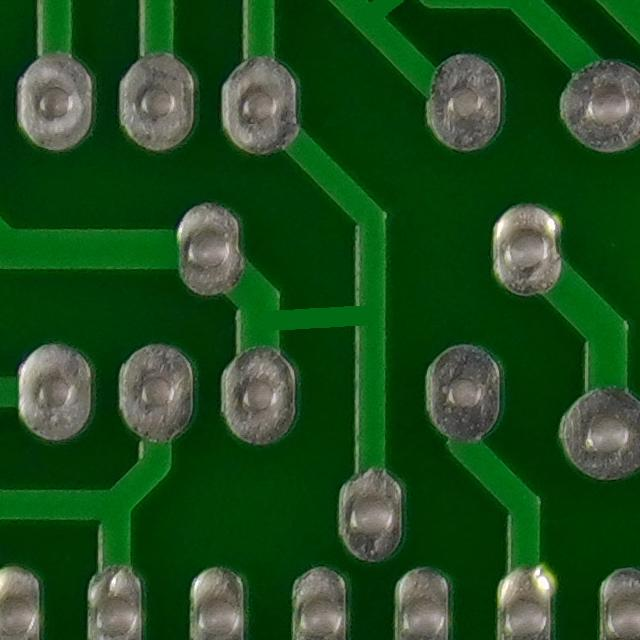short: (234, 279, 406, 362)
